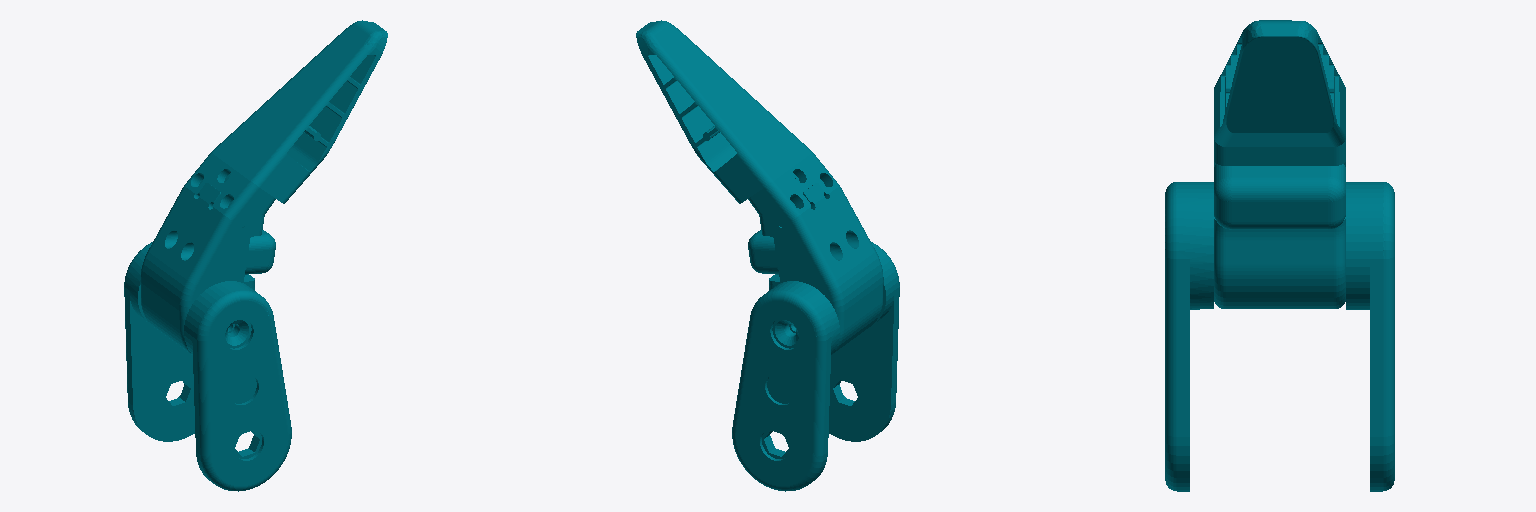
robot.urdf — umi3_camera_soft_finger:
<?xml version="1.0"?>
<robot name="umi3_camera_soft_finger">
  <material name="body_dark"><color rgba="0.16 0.18 0.21 1.0"/></material>
  <material name="finger_soft"><color rgba="0.03 0.52 0.58 1.0"/></material>
  <link name="base_link">
    <inertial>
      <origin xyz="0 0 0.09" rpy="0 0 0"/>
      <mass value="1.0"/>
      <inertia ixx="0.003" ixy="0" ixz="0" iyy="0.003" iyz="0" izz="0.001"/>
    </inertial>
    <visual>
      <geometry><mesh filename="meshes/base_link.stl" scale="0.001 0.001 0.001"/></geometry>
      <material name="body_dark"/>
    </visual>
  </link>
  <link name="index_finger_link">
    <inertial>
      <origin xyz="-0.03 0 0.02" rpy="0 0 0"/>
      <mass value="0.12"/>
      <inertia ixx="0.00006" ixy="0" ixz="0" iyy="0.00010" iyz="0" izz="0.00008"/>
    </inertial>
    <visual>
      <geometry><mesh filename="meshes/index_link.stl" scale="0.001 0.001 0.001"/></geometry>
      <material name="finger_soft"/>
    </visual>
  </link>
  <joint name="gripper_joint" type="revolute">
    <origin xyz="-0.021210000 0 0.130500000" rpy="0 1.154138338296 0"/>
    <parent link="base_link"/>
    <child link="index_finger_link"/>
    <axis xyz="0 -1 0"/>
    <limit lower="0.0" upper="1.570796326795" effort="100.0" velocity="1.5"/>
    <dynamics damping="0.05" friction="0.02"/>
  </joint>
</robot>

--- Facts derived from the render (not from the file) ---
Views: 3 orthographic renders of the robot side by side, from view 1: azimuth 30°, elevation 25°; view 2: azimuth 150°, elevation 25°; view 3: azimuth 270°, elevation 25°.
Robot: umi3_camera_soft_finger — 2 links, 1 joints (1 revolute); root link base_link; default pose: every joint at zero.
Links seen in each view (by area): view 1: index_finger_link; view 2: index_finger_link; view 3: index_finger_link.
Link boxes in pixels (left/top/right/bottom): index_finger_link: left=124, top=20, right=387, bottom=491; index_finger_link: left=636, top=20, right=899, bottom=491; index_finger_link: left=1165, top=20, right=1394, bottom=491.
Size in the robot's own frame: 0.0607 by 0.038 by 0.105 metres.
Meshes: 2 distinct files referenced, 1 mesh visuals loaded (1 binary STL); not drawn: 1 (reference not matched to a file when rendering).
